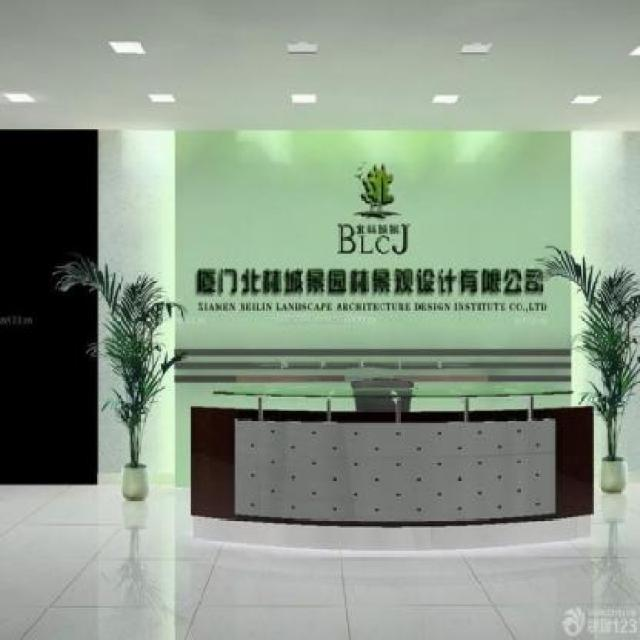frontdesk: (183, 378, 604, 528)
